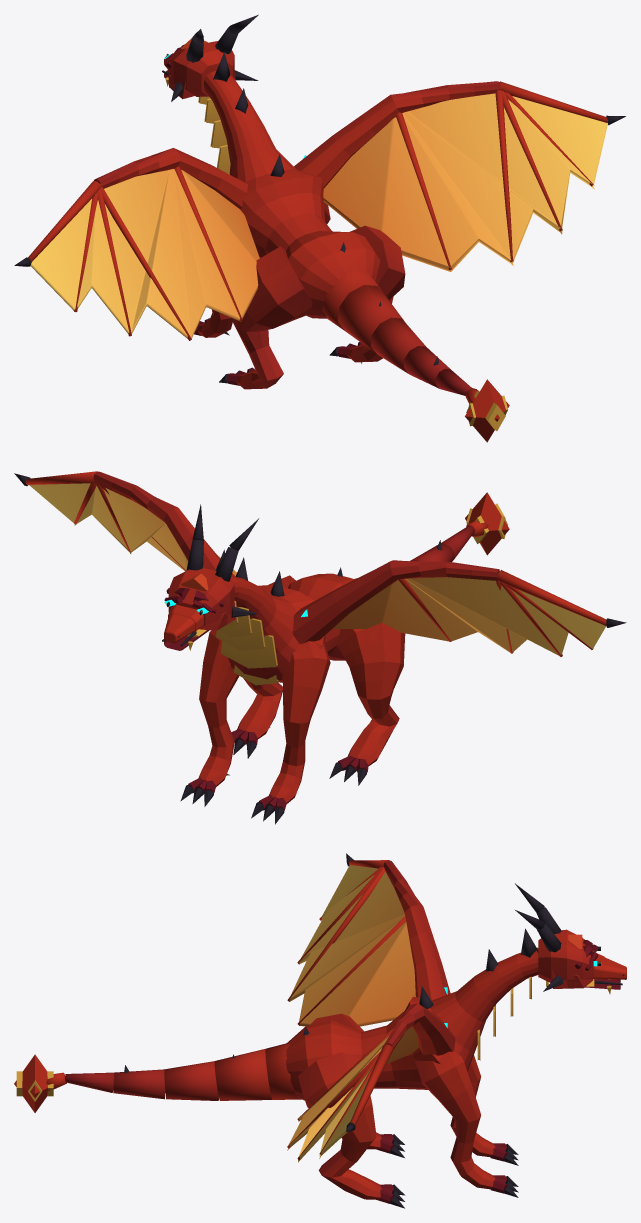
File: skyknit-dragon.glb
The picture shows the model from 3 angles, top to bottom: view 1: azimuth 30°, elevation 25°; view 2: azimuth 150°, elevation 25°; view 3: azimuth 270°, elevation 25°; orthographic projection. The views are drawn at different scales.
Visible parts, largest first — view 1: Dragon_Wing_R, Dragon_Wing_L, Dragon_Body, Dragon_Head, Dragon_Tail_5, Dragon_Tail_2, Dragon_Tail_3, Dragon_Tail_1, Dragon_Tail_4; view 2: Dragon_Body, Dragon_Wing_L, Dragon_Wing_R, Dragon_Head, Dragon_Tail_5, Dragon_Tail_4; view 3: Dragon_Body, Dragon_Wing_L, Dragon_Wing_R, Dragon_Head, Dragon_Tail_2, Dragon_Tail_5, Dragon_Tail_3, Dragon_Tail_4, Dragon_Tail_1.
Part boxes in pixels (x1=…): Dragon_Wing_R: x1=294, y1=81, x2=625, y2=271; Dragon_Wing_L: x1=14, y1=148, x2=259, y2=340; Dragon_Body: x1=194, y1=52, x2=405, y2=389; Dragon_Head: x1=164, y1=14, x2=258, y2=101; Dragon_Tail_5: x1=433, y1=356, x2=509, y2=442; Dragon_Tail_2: x1=338, y1=285, x2=404, y2=353; Dragon_Tail_3: x1=371, y1=301, x2=425, y2=373; Dragon_Tail_1: x1=322, y1=242, x2=383, y2=330; Dragon_Tail_4: x1=404, y1=346, x2=450, y2=388; Dragon_Body: x1=180, y1=549, x2=405, y2=824; Dragon_Wing_L: x1=292, y1=560, x2=626, y2=656; Dragon_Wing_R: x1=14, y1=471, x2=236, y2=576; Dragon_Head: x1=164, y1=504, x2=258, y2=643; Dragon_Tail_5: x1=437, y1=492, x2=509, y2=558; Dragon_Tail_4: x1=410, y1=543, x2=454, y2=561; Dragon_Body: x1=286, y1=928, x2=548, y2=1208; Dragon_Wing_L: x1=287, y1=853, x2=450, y2=1026; Dragon_Wing_R: x1=287, y1=1003, x2=455, y2=1162; Dragon_Head: x1=515, y1=883, x2=626, y2=991; Dragon_Tail_2: x1=214, y1=1048, x2=271, y2=1100; Dragon_Tail_5: x1=14, y1=1054, x2=129, y2=1112; Dragon_Tail_3: x1=164, y1=1054, x2=234, y2=1100; Dragon_Tail_4: x1=113, y1=1069, x2=165, y2=1099; Dragon_Tail_1: x1=265, y1=1026, x2=309, y2=1099.
Bounding box in the file's own units: 12.52 × 5.88 × 11.63.
